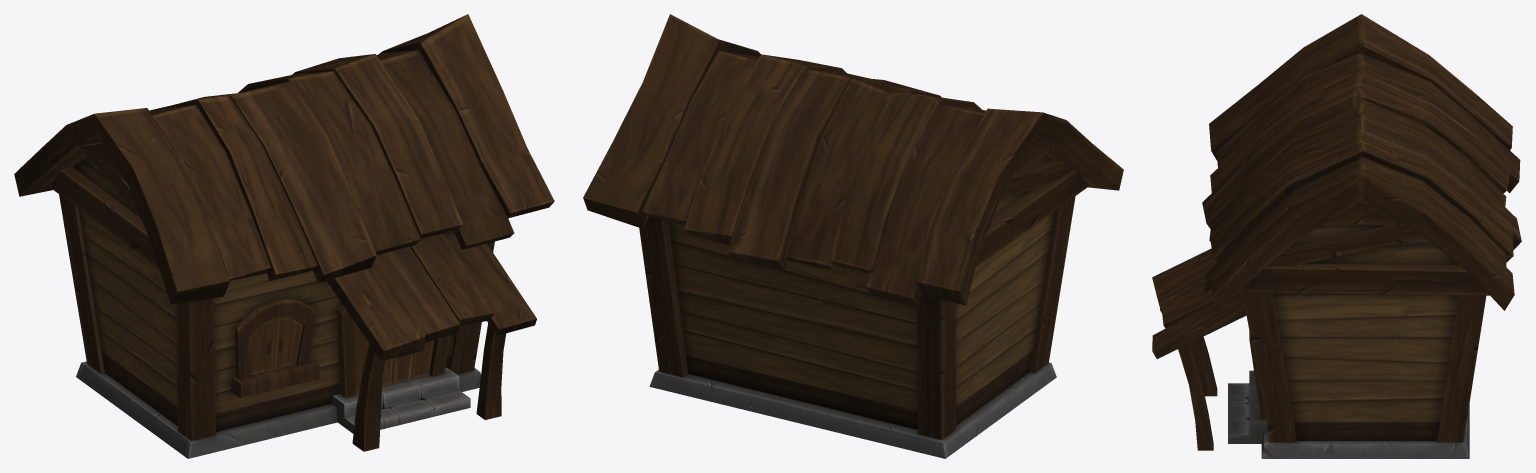
The model's file is modelBuilding_House2.fbx.
3 renders of one model, left to right at view 1: azimuth 30°, elevation 25°; view 2: azimuth 150°, elevation 25°; view 3: azimuth 270°, elevation 25°, orthographic. The views are drawn at different scales.
Visible parts, largest first — view 1: modelBuilding_House2; view 2: modelBuilding_House2; view 3: modelBuilding_House2.
Part boxes in pixels (bbox=[...]): modelBuilding_House2: bbox=[14, 14, 554, 458]; modelBuilding_House2: bbox=[583, 14, 1123, 458]; modelBuilding_House2: bbox=[1152, 14, 1521, 458].
Size of the model in its own units: 75.22 by 61.36 by 68.28.
